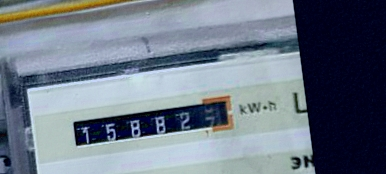1: (80, 124, 91, 143)
2: (178, 109, 192, 130)
5: (102, 121, 118, 141)
7: (202, 113, 216, 126)
8: (152, 112, 168, 135), (128, 117, 143, 138)
screen: (66, 92, 239, 154)
